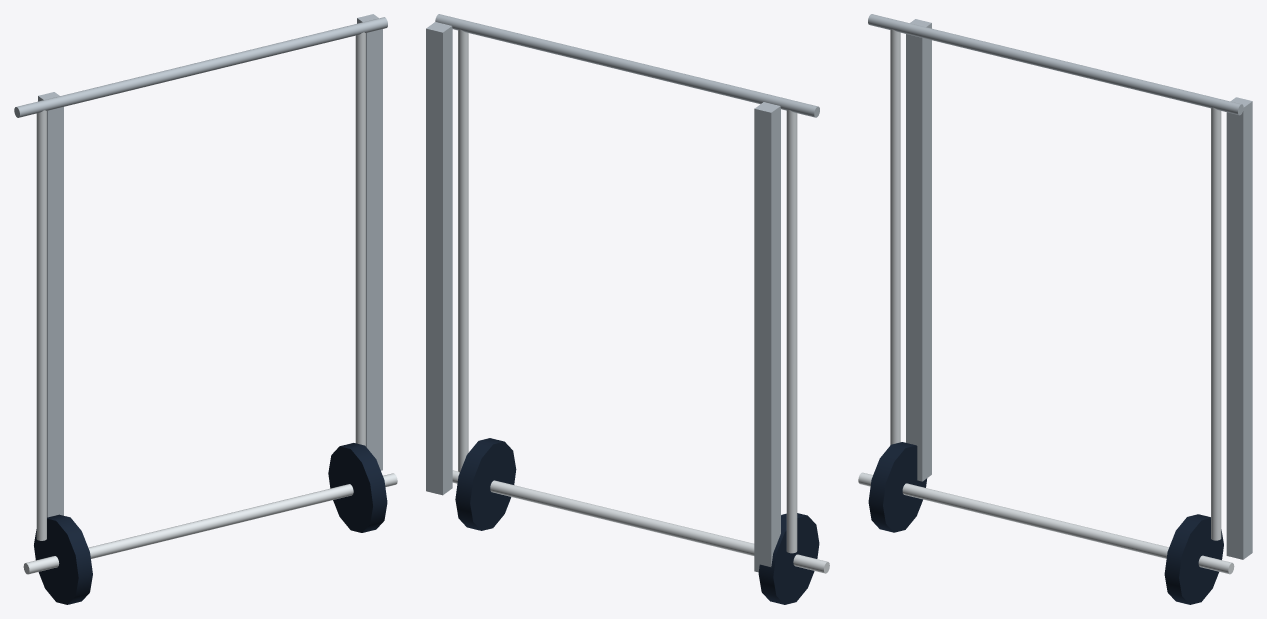
The model's file is smith_machine.glb.
3 views of the same model, side by side, from view 1: azimuth 30°, elevation 25°; view 2: azimuth 150°, elevation 25°; view 3: azimuth 330°, elevation 25° (orthographic). The views are drawn at different scales.
Visible parts, largest first — view 1: smithUpright (×2), smithGuide (×2), barbell_plate (×2), smithCross, barbell; view 2: smithUpright (×2), smithGuide (×2), barbell_plate (×2), smithCross, barbell; view 3: smithUpright (×2), smithGuide (×2), barbell_plate (×2), smithCross, barbell.
Boxes of the visible parts, x1,y1,x2,y2 form: smithUpright (×2): [38, 14, 382, 517]; smithGuide (×2): [36, 32, 365, 540]; barbell_plate (×2): [34, 443, 387, 604]; smithCross: [14, 17, 387, 117]; barbell: [23, 473, 397, 574]; smithUpright (×2): [426, 22, 780, 572]; smithGuide (×2): [458, 29, 797, 553]; barbell_plate (×2): [455, 438, 819, 604]; smithCross: [435, 14, 819, 117]; barbell: [452, 470, 829, 573]; smithUpright (×2): [906, 19, 1252, 559]; smithGuide (×2): [890, 29, 1221, 540]; barbell_plate (×2): [868, 442, 1223, 604]; smithCross: [868, 14, 1243, 115]; barbell: [858, 472, 1234, 574].
Bounding box in the file's own units: 1.8 × 2.31 × 0.38.
